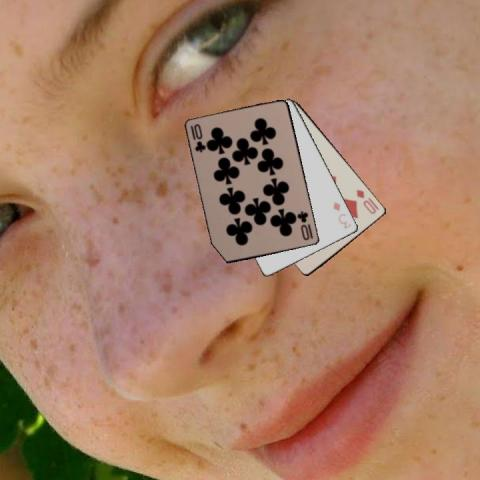10c: (294, 208, 314, 242), (188, 121, 207, 154)
10d: (354, 187, 378, 215)
3d: (330, 199, 353, 230)
